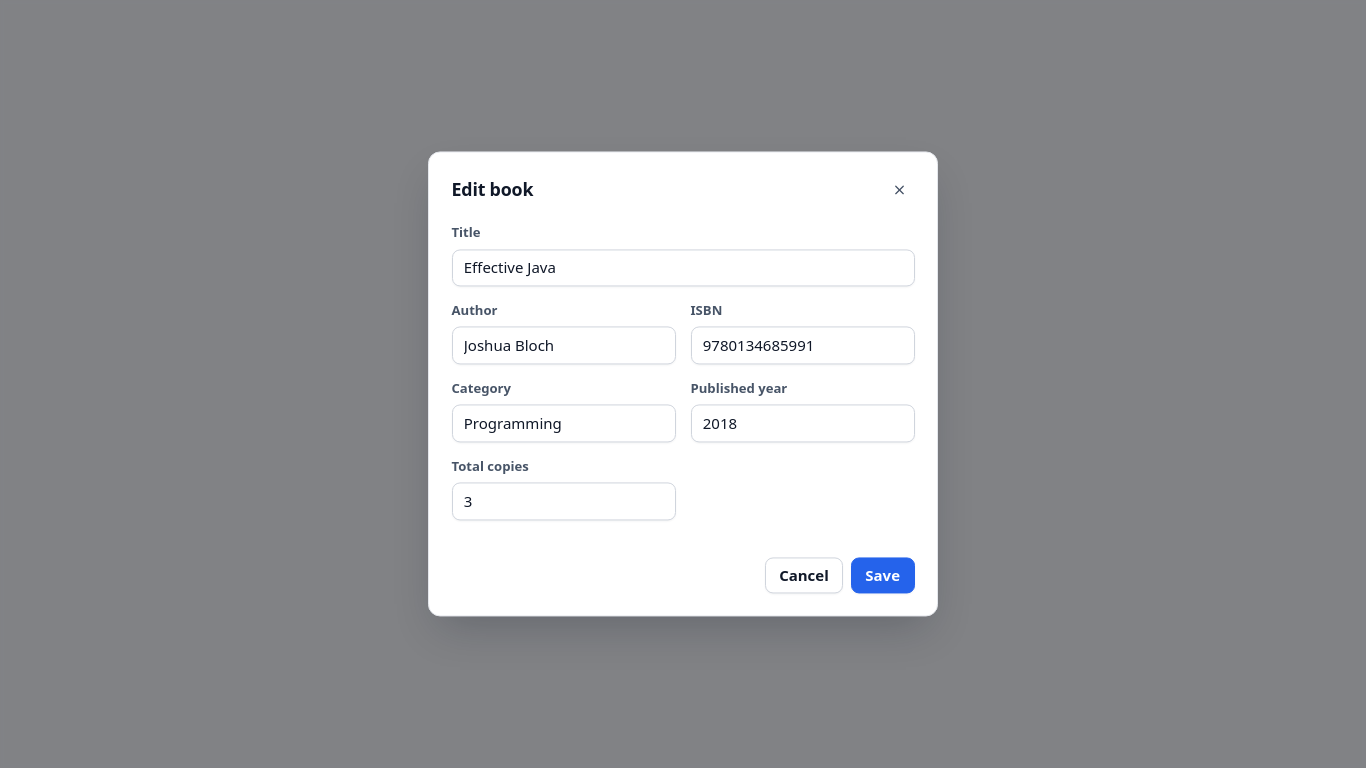
Test: BookFormDialog › shows the API field errors on their fields
What coordinates should you click on to do the following:
click the button "Save"
I would click on:
 (883, 575)
Its box is [851,557,914,593].
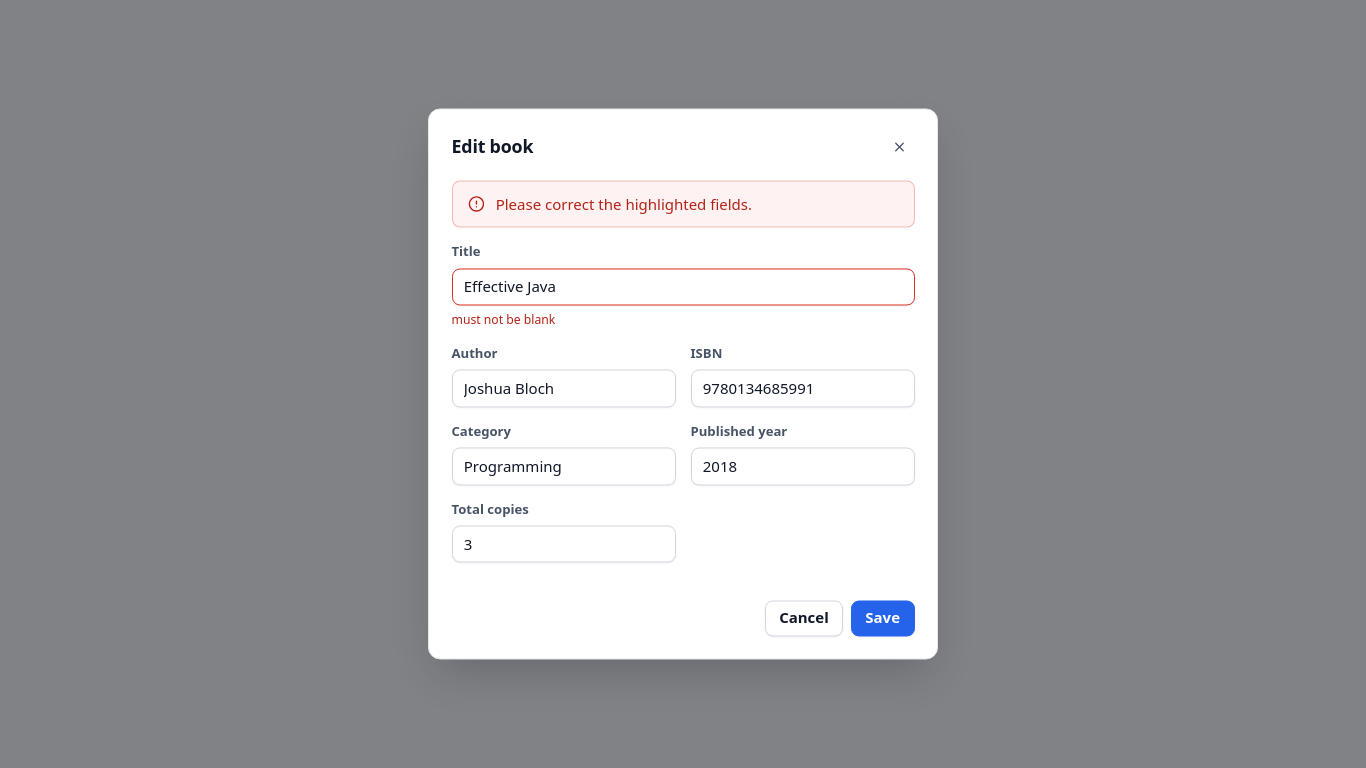
Expected: the text "must not be blank" is shown, [452,311,555,328]
